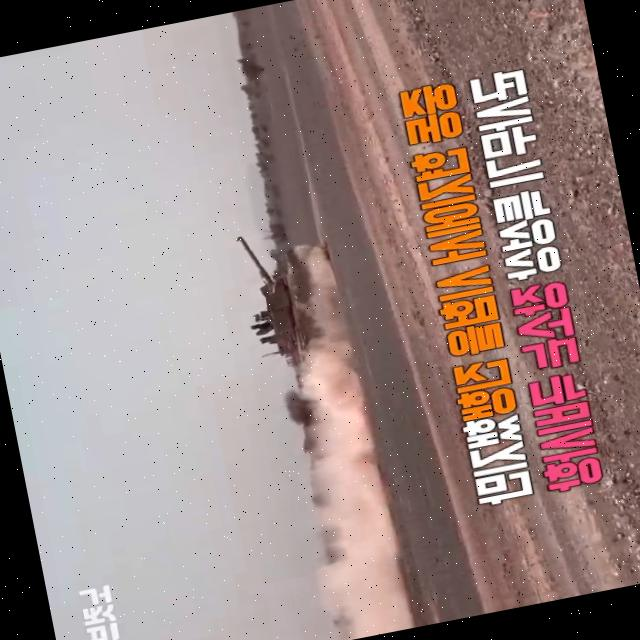korea tank: (232, 218, 352, 392)
